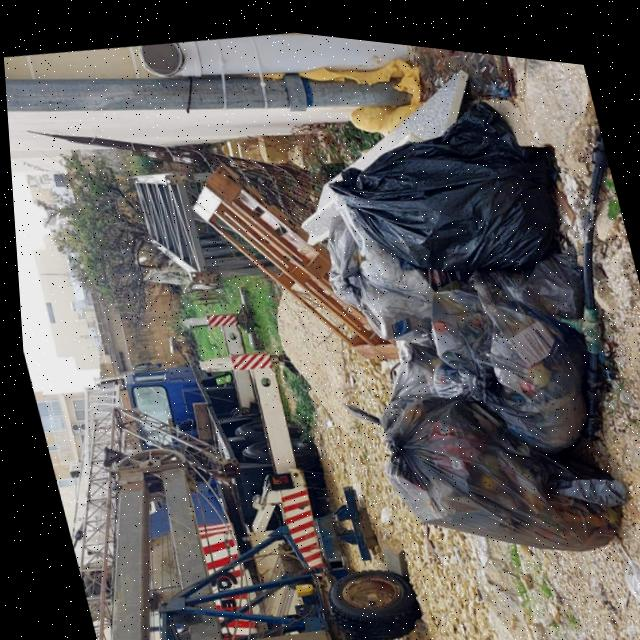Mixed Waste -Black Bag-: (357, 337, 640, 578), (307, 60, 585, 288), (413, 233, 615, 462), (338, 320, 450, 430)
Other: (34, 78, 336, 269), (180, 126, 399, 382), (264, 40, 510, 260), (309, 194, 444, 345)
